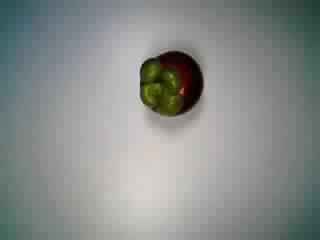mangosteen: (136, 45, 207, 121)
